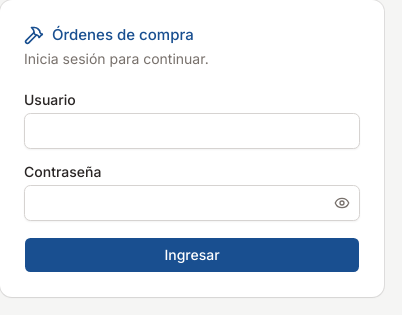
campo de contraseña del login › el ojo muestra y vuelve a ocultar la contraseña sin perder lo escrito
Step 1. Type "Compras2026!" into the password field labelled "Contraseña" → point(192, 203), box x1=24 y1=185 x2=360 y2=221
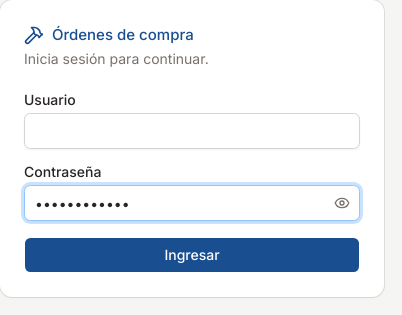
Step 2. Click the button named "Mostrar contraseña" → point(342, 203), box x1=324 y1=185 x2=360 y2=221
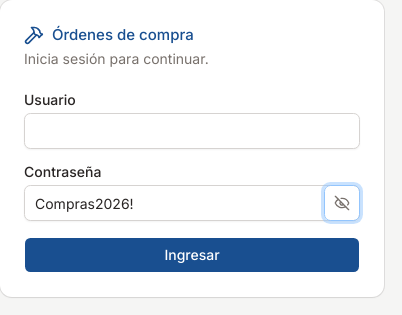
Check: the field labelled "Contraseña" shows its text, box x1=24 y1=185 x2=360 y2=221
Step 3. Click the button named "Ocultar contraseña" → point(342, 203), box x1=324 y1=185 x2=360 y2=221
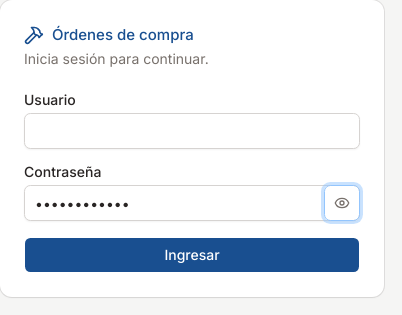
Check: the password field labelled "Contraseña" hides its text, box x1=24 y1=185 x2=360 y2=221
